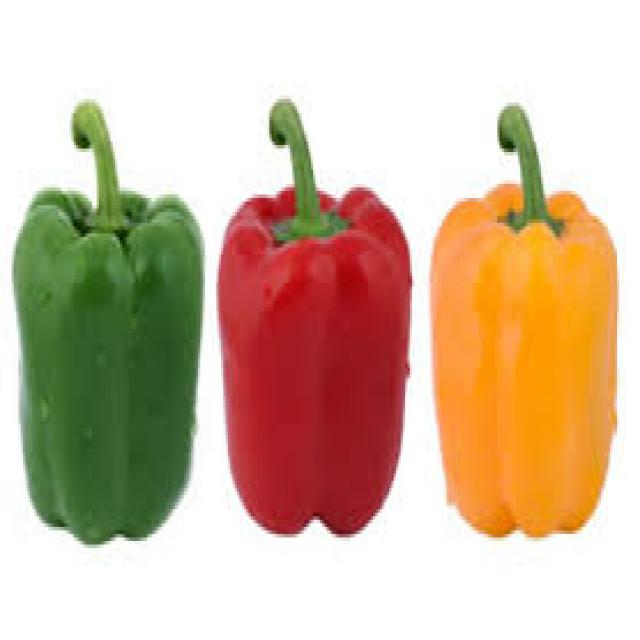organic waste: (216, 92, 410, 541), (12, 92, 200, 541), (426, 102, 617, 538)
